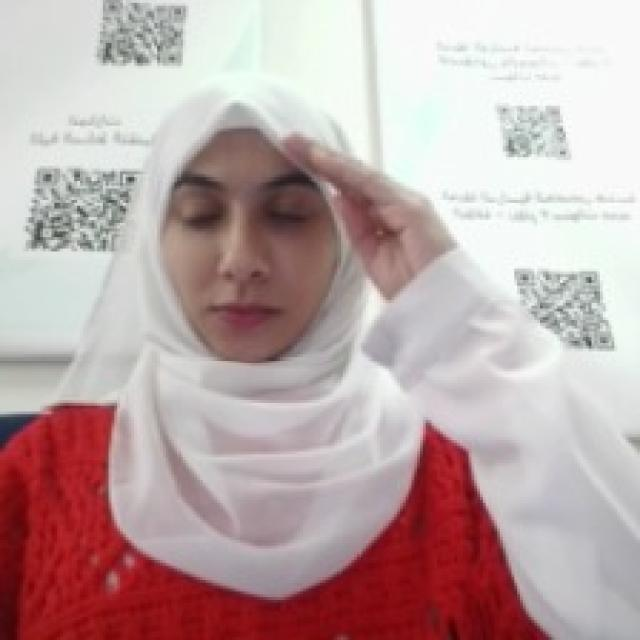Thanks: (271, 123, 460, 303)
